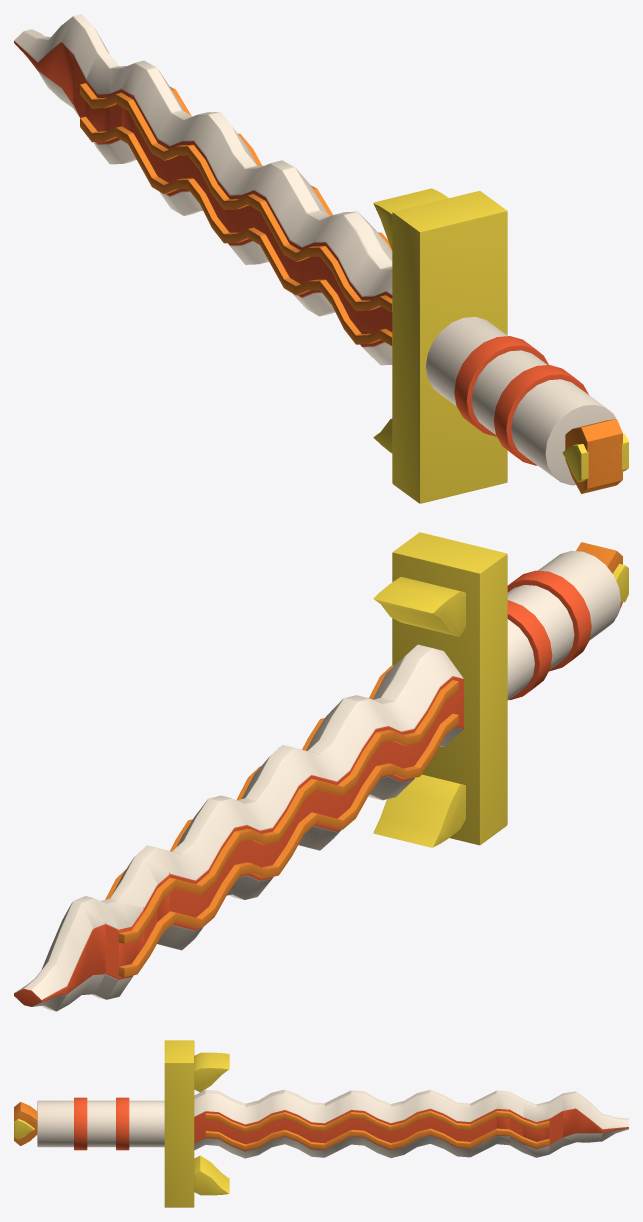
The model's file is Sword_CinderwaveFlamberge.glb.
The picture shows the model from 3 angles, top to bottom: view 1: azimuth 30°, elevation 25°; view 2: azimuth 150°, elevation 25°; view 3: azimuth 270°, elevation 25°; orthographic projection. The views are drawn at different scales.
Visible parts, largest first — view 1: Sword_CinderwaveFlamberge; view 2: Sword_CinderwaveFlamberge; view 3: Sword_CinderwaveFlamberge.
Boxes of the visible parts, bbox=[...] form: Sword_CinderwaveFlamberge: bbox=[14, 14, 628, 503]; Sword_CinderwaveFlamberge: bbox=[14, 532, 628, 1011]; Sword_CinderwaveFlamberge: bbox=[14, 1040, 628, 1207].
Bounding box in the file's own units: 0.088 × 0.26 × 1.
1 material, 1 textured.
